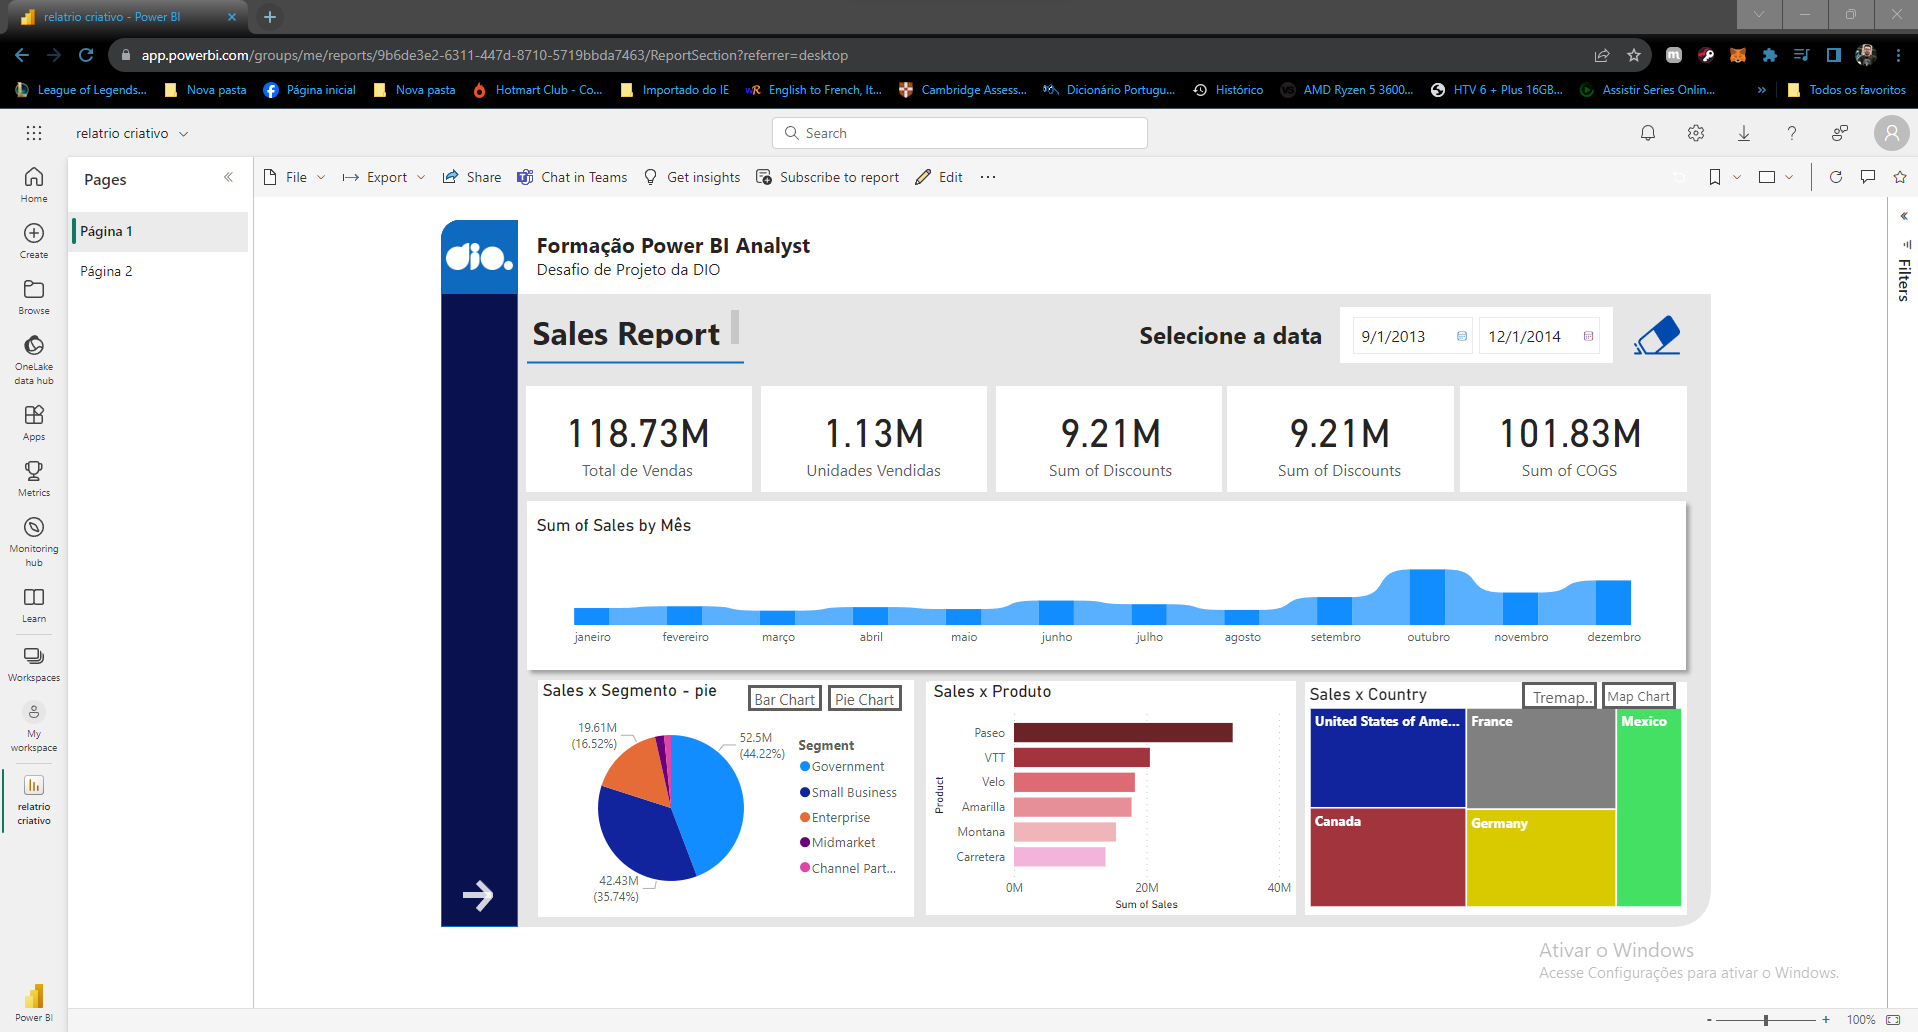

The page's visual inventory and layout, read from the dashboard file:
{"tool":"powerbi","page":{"name":"Página 1","canvas":[1280,720],"ordinal":0},"visuals":[{"type":"shape","box":[10,12.8,1270,707],"z":0},{"type":"slicer","fields":{"Values":["financials.Date"]},"box":[909.3,99.8,272.2,55.6],"z":0,"group":"g2"},{"type":"shape","box":[95.5,139.6,216.7,32.8],"z":0,"group":"g5"},{"type":"shape","box":[95.5,179.2,226.5,105.7],"z":0,"group":"g1"},{"type":"pieChart","title":"Sales x Segmento - pie","fields":{"Y":["Sum(financials. Sales)"],"Category":["financials.Segment"]},"box":[106.5,472.8,376.3,236.6],"z":0,"group":"g4"},{"type":"map","title":"Sales x Country","fields":{"Category":["financials.Country"],"Size":["Sum(financials. Sales)"]},"box":[873.8,476,382,228.1],"z":0,"group":"g3"},{"type":"shape","box":[10.1,13.4,77.2,706.3],"z":1000},{"type":"textbox","box":[96.9,98.3,215.2,48.5],"z":1000,"group":"g5"},{"type":"textbox","box":[704.1,105.5,199.6,45.6],"z":1000,"group":"g2"},{"type":"shape","box":[330.2,179.2,226.5,105.7],"z":1000,"group":"g1"},{"type":"treemap","title":"Sales x Country","fields":{"Group":["financials.Country"],"Values":["Sum(financials. Sales)"]},"box":[873.8,477.5,382,228.1],"z":1000,"group":"g3"},{"type":"shape","box":[10.1,13.4,77.2,73.8],"z":2000},{"type":"actionButton","box":[1195.9,104.1,59.9,51.3],"z":2000,"group":"g2"},{"type":"shape","box":[565.1,179.2,226.5,105.7],"z":2000,"group":"g1"},{"type":"actionButton","title":"Botão - map","box":[1170.7,475.2,74.5,26.6],"z":2000,"group":"g3"},{"type":"actionButton","title":"Botão - bar","box":[316.7,477.4,74.5,26.6],"z":2000,"group":"g4"},{"type":"image","title":"logo_dio","box":[10.1,18.4,77.2,62.1],"z":3000},{"type":"image","title":"clean","box":[1195.9,99.8,59.9,55.6],"z":3000,"group":"g2"},{"type":"shape","box":[796.5,179.2,226.5,105.7],"z":3000,"group":"g1"},{"type":"actionButton","title":"Botão - tremap","box":[1090.9,475.2,74.5,26.6],"z":3000,"group":"g3"},{"type":"actionButton","title":"Botão -pie","box":[396.5,477.4,74.5,26.6],"z":3000,"group":"g4"},{"type":"shape","box":[86.9,12.8,1193,74.1],"z":4000},{"type":"shape","box":[1029.7,179.2,226.5,105.7],"z":4000,"group":"g1"},{"type":"textbox","box":[100.7,18.4,365.7,68.8],"z":5000},{"type":"card","fields":{"Values":["Sum(financials. Sales)"]},"box":[101.2,179.6,210.9,105.5],"z":5000,"group":"g1"},{"type":"group","id":"g1","title":"Cartões","box":[95.5,179.2,1160.7,105.9],"z":6000},{"type":"card","fields":{"Values":["Sum(financials.Units Sold)"]},"box":[337.8,179.6,210.9,105.5],"z":6000,"group":"g1"},{"type":"card","fields":{"Values":["Sum(financials.Discounts)"]},"box":[804,179.6,210.9,105.5],"z":7000,"group":"g1"},{"type":"shape","box":[86.9,285.1,1177.4,186.7],"z":7000},{"type":"card","fields":{"Values":["Sum(financials.Discounts)"]},"box":[574.5,179.6,210.9,105.5],"z":8000,"group":"g1"},{"type":"shape","box":[494.6,474.6,370.6,233.8],"z":8000},{"type":"card","fields":{"Values":["Sum(financials.COGS)"]},"box":[1033.4,179.6,210.9,105.5],"z":9000,"group":"g1"},{"type":"shape","box":[873.8,474.6,382,233.8],"z":9000},{"type":"ribbonChart","fields":{"Category":["financials.Date.Variation.Hierarquia de datas.Mês"],"Y":["Sum(financials. Sales)"]},"box":[101.2,307.9,1143.2,139.7],"z":10000},{"type":"clusteredBarChart","title":"Sales x Produto","fields":{"Y":["Sum(financials. Sales)"],"Category":["financials.Product"]},"box":[498.3,474.4,366.9,233.8],"z":11000},{"type":"group","id":"g2","title":"Filtro por data","box":[704.1,99.8,551.6,55.6],"z":12000},{"type":"group","id":"g3","title":"Sales x país","box":[873.8,475.2,382,230.3],"z":13000},{"type":"group","id":"g4","title":"Sales x Segmento","box":[99.9,472.8,382.5,236.4],"z":14000},{"type":"group","id":"g5","title":"Title report","box":[95.5,98.3,216.7,74.1],"z":15000},{"type":"actionButton","box":[25.9,669,48.8,39.6],"z":16000}]}

Visuals, with their boxes on the page's 1280x720 design canvas (x1, y1, x2, y2). These are canvas units, not pixel positions in the 1918x1032 screenshot, which may show the page scaled, cropped or inside an application window:
shape: region(10, 13, 1280, 720)
slicer - financials.Date: region(909, 100, 1182, 155)
shape: region(96, 140, 312, 172)
shape: region(96, 179, 322, 285)
"Sales x Segmento - pie" pieChart: region(106, 473, 483, 709)
"Sales x Country" map: region(874, 476, 1256, 704)
shape: region(10, 13, 87, 720)
textbox: region(97, 98, 312, 147)
textbox: region(704, 106, 904, 151)
shape: region(330, 179, 557, 285)
"Sales x Country" treemap: region(874, 478, 1256, 706)
shape: region(10, 13, 87, 87)
actionButton: region(1196, 104, 1256, 155)
shape: region(565, 179, 792, 285)
"Botão - map" actionButton: region(1171, 475, 1245, 502)
"Botão - bar" actionButton: region(317, 477, 391, 504)
"logo_dio" image: region(10, 18, 87, 80)
"clean" image: region(1196, 100, 1256, 155)
shape: region(796, 179, 1023, 285)
"Botão - tremap" actionButton: region(1091, 475, 1165, 502)
"Botão -pie" actionButton: region(396, 477, 471, 504)
shape: region(87, 13, 1280, 87)
shape: region(1030, 179, 1256, 285)
textbox: region(101, 18, 466, 87)
card - Sum(financials. Sales): region(101, 180, 312, 285)
"Cartões" group: region(96, 179, 1256, 285)
card - Sum(financials.Units Sold): region(338, 180, 549, 285)
card - Sum(financials.Discounts): region(804, 180, 1015, 285)
shape: region(87, 285, 1264, 472)
card - Sum(financials.Discounts): region(574, 180, 785, 285)
shape: region(495, 475, 865, 708)
card - Sum(financials.COGS): region(1033, 180, 1244, 285)
shape: region(874, 475, 1256, 708)
ribbonChart - financials.Date.Variation.Hierarquia de datas.Mês x Sum(financials. Sales): region(101, 308, 1244, 448)
"Sales x Produto" clusteredBarChart: region(498, 474, 865, 708)
"Filtro por data" group: region(704, 100, 1256, 155)
"Sales x país" group: region(874, 475, 1256, 706)
"Sales x Segmento" group: region(100, 473, 482, 709)
"Title report" group: region(96, 98, 312, 172)
actionButton: region(26, 669, 75, 709)
